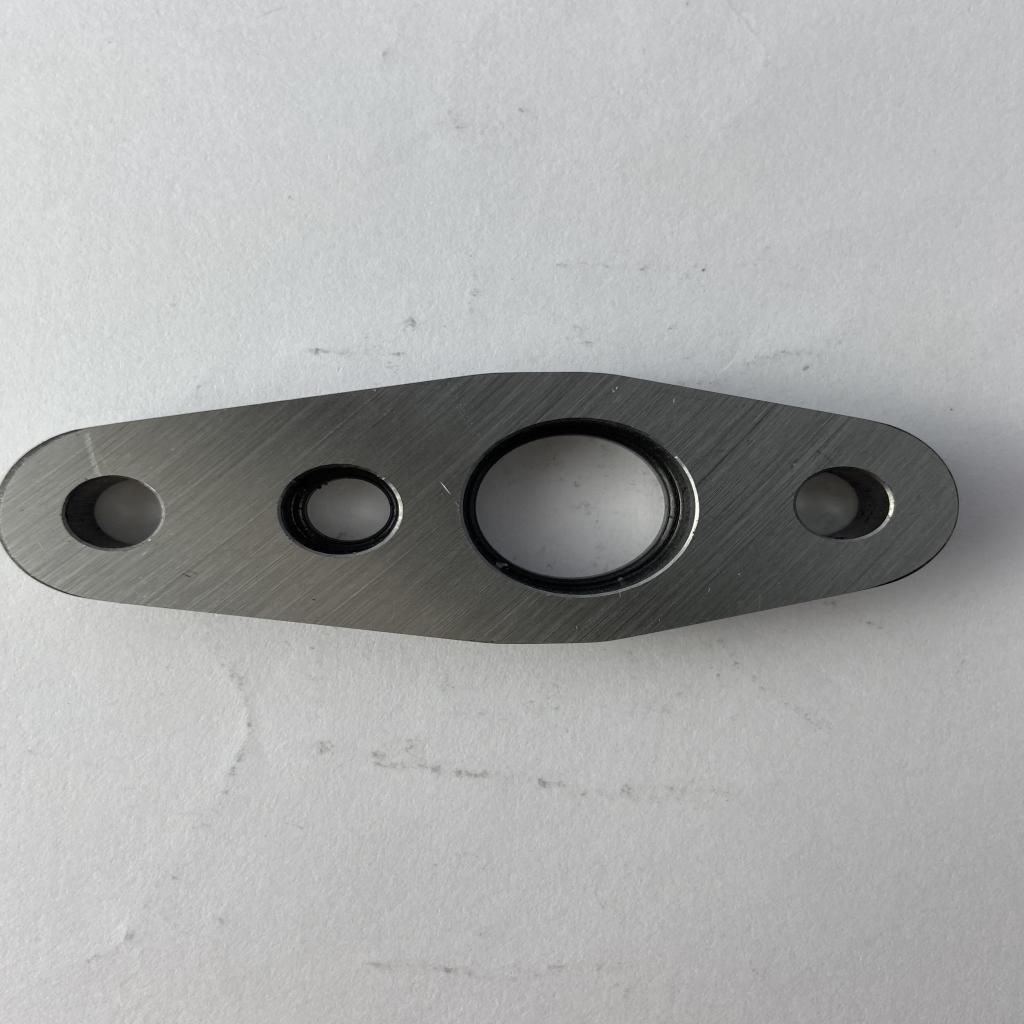chap: (438, 478, 454, 498), (451, 498, 463, 509), (611, 384, 620, 395), (706, 586, 712, 596), (573, 625, 580, 631)
lines: (80, 430, 105, 476)
